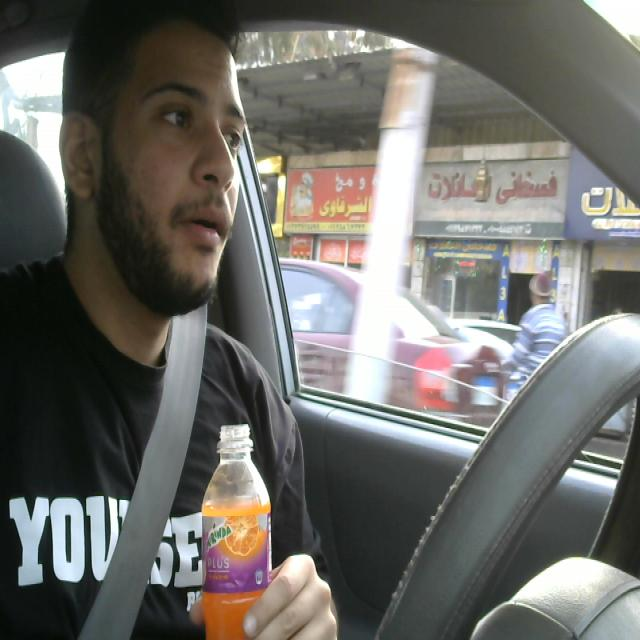drinking: (199, 424, 273, 640)
